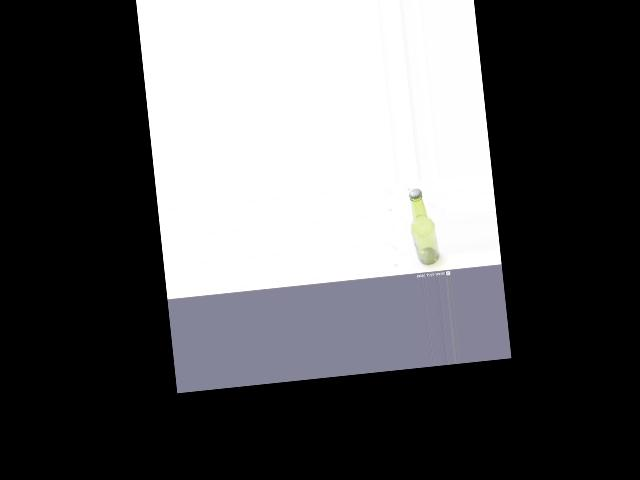beer: (407, 186, 439, 265)
